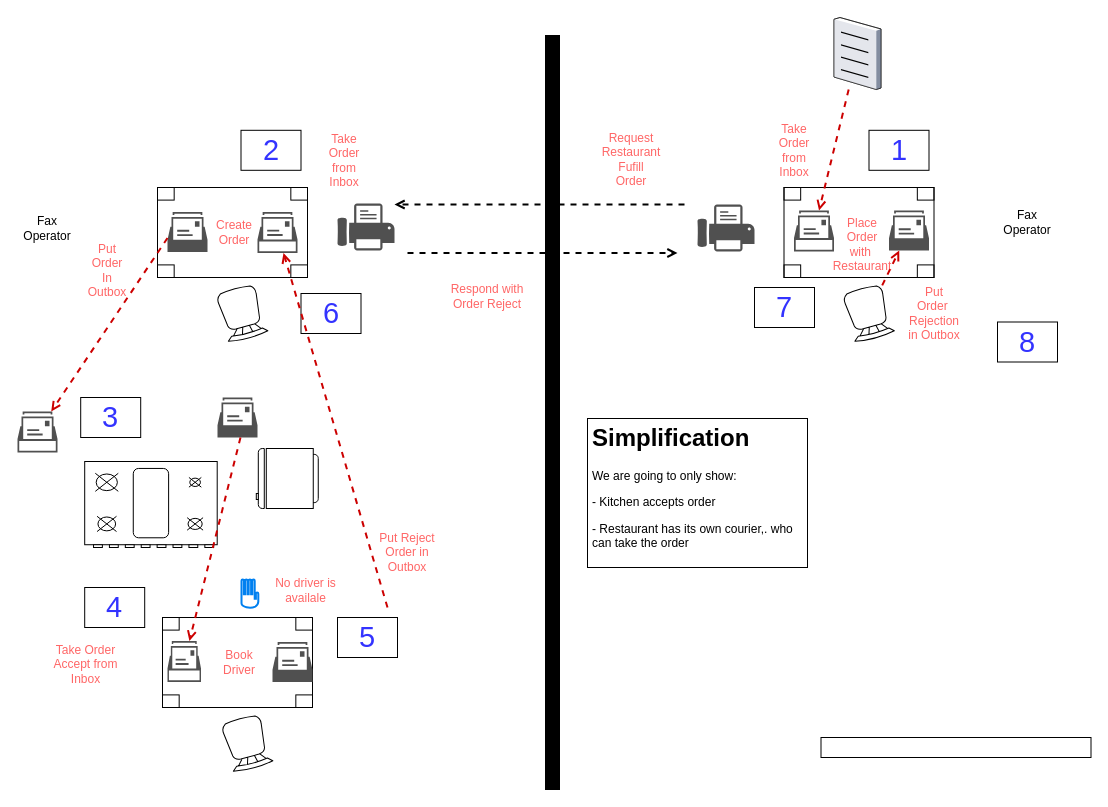
The diagram is 1108 pixels wide and 807 high, and some of its shapes have lost their labels. The centre of each missing label's shape, as x and y in pixels:
"Accept or Reject Order" belongs at (x=150, y=504).
"Order Placement" belongs at (x=955, y=747).
